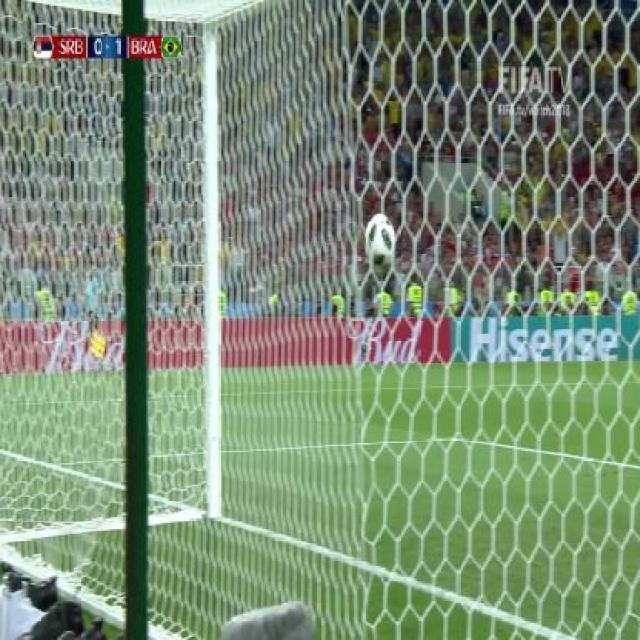ball: (358, 209, 400, 275)
